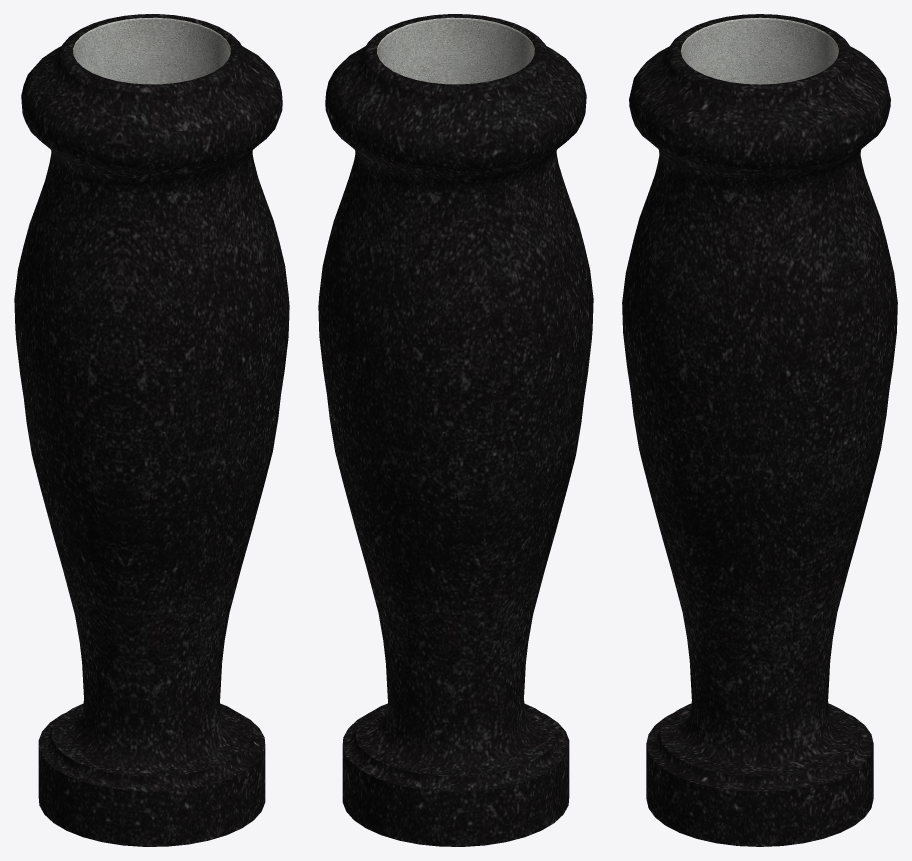
The model's file is Vase 1 (1).gltf.
The picture shows the model from 3 angles, left to right: view 1: azimuth 30°, elevation 25°; view 2: azimuth 150°, elevation 25°; view 3: azimuth 270°, elevation 25°; orthographic projection.
Visible parts, largest first — view 1: Circle; view 2: Circle; view 3: Circle.
Boxes of the visible parts, x1,y1,x2,y2 form: Circle: (14,14,289,846); Circle: (318,14,593,846); Circle: (622,14,897,846).
Size of the model in its own units: 0.1 by 0.2995 by 0.1.
2 materials, 2 textured.
